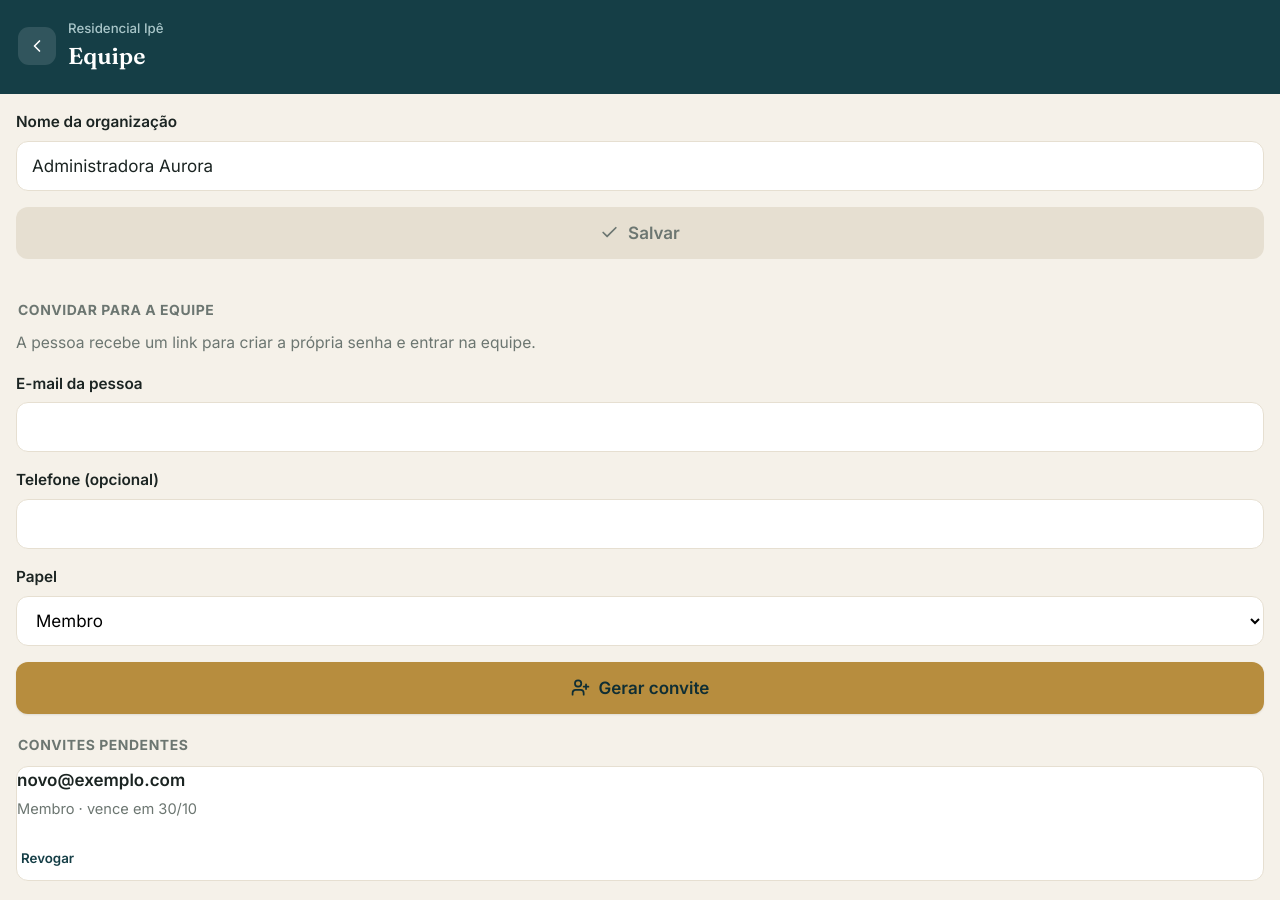
Scenario: TeamScreen › invites as Membro by default and shows the share card
Type "Nova@Exemplo.com" into the field labelled "E-mail da pessoa". click: (640, 427)
box: [16,402,1264,452]
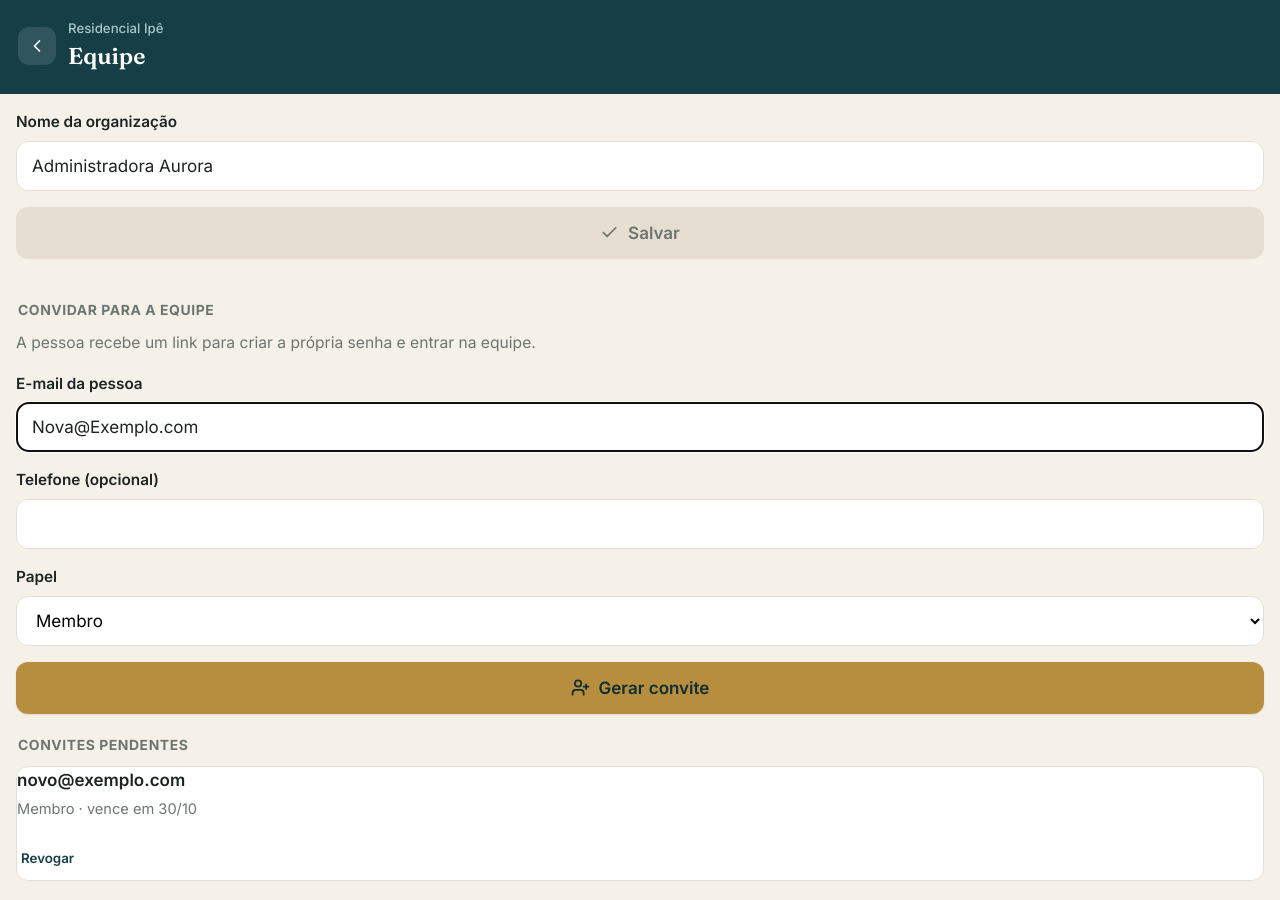
Click the button "Gerar convite". click: (640, 688)
box: [16,662,1264,714]
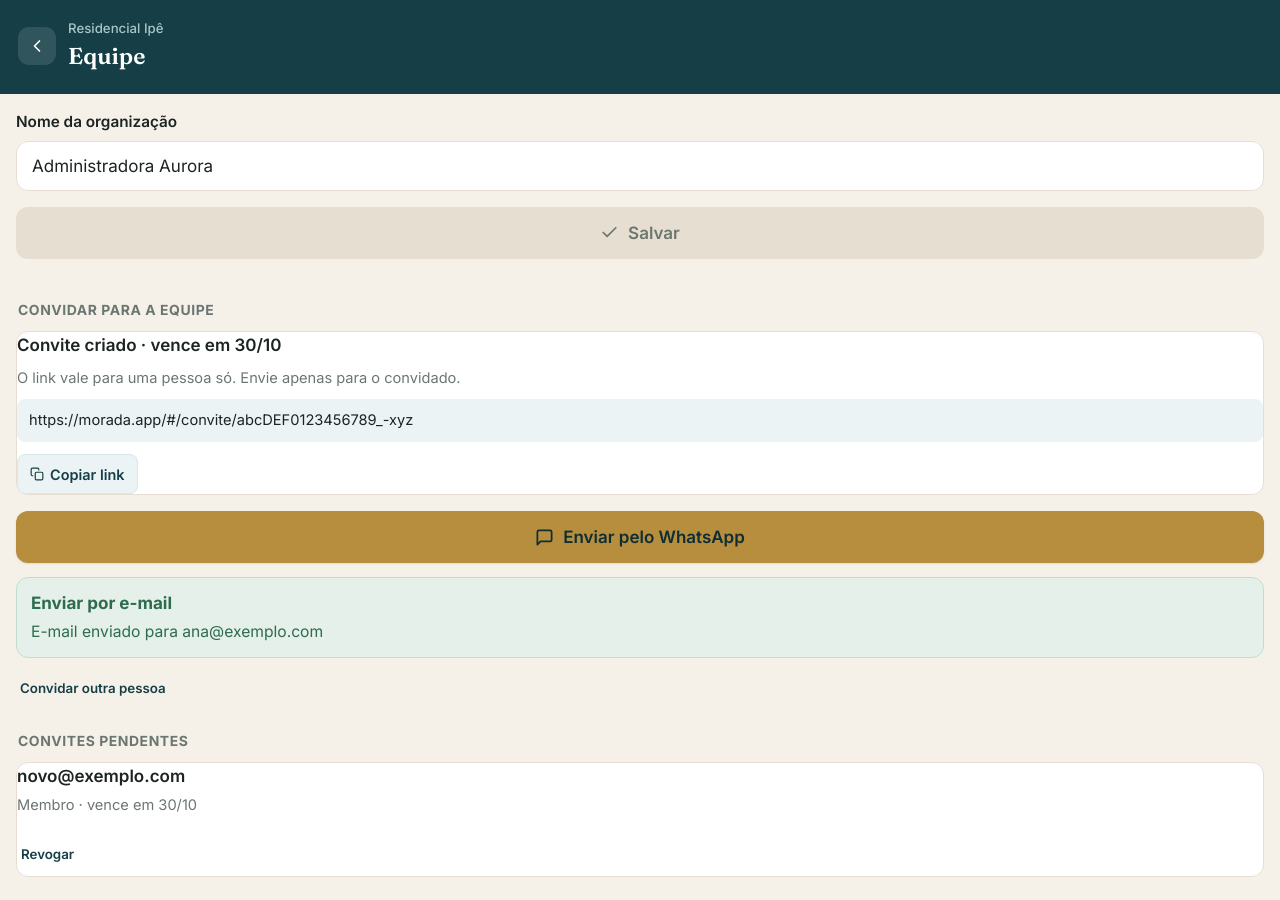
Now the text with test id "invite-link" reads "https://morada.app/#/convite/abcDEF0123456789_-xyz", box [29,411,413,429]
